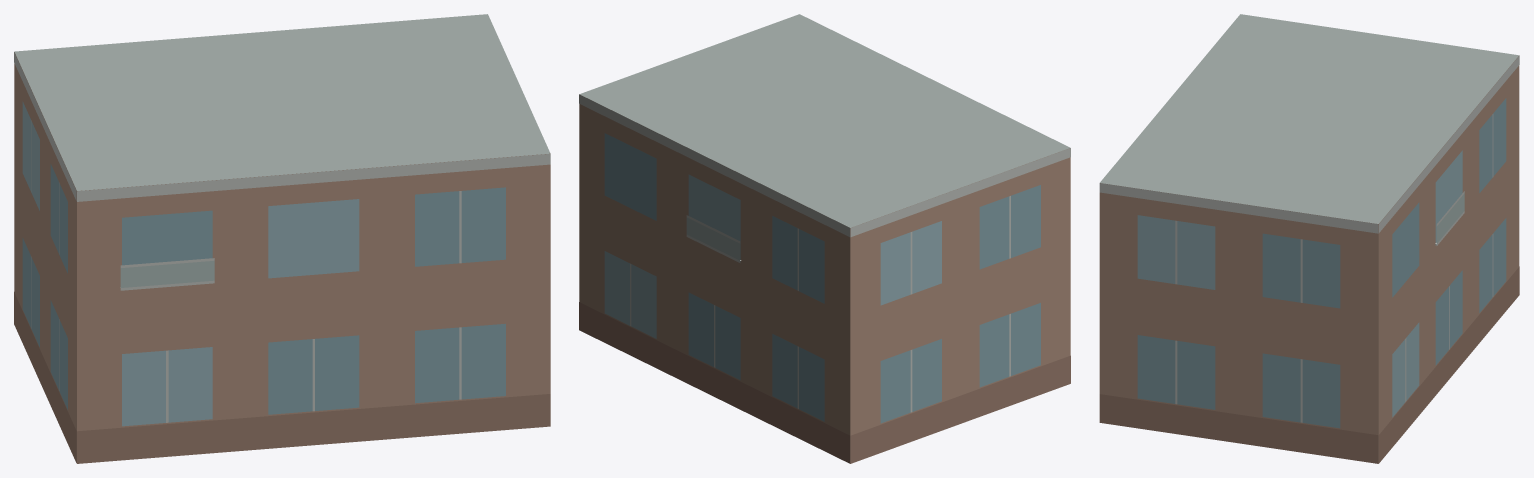
Rendered from survey-upis-33006526.glb.
3 renders of one model, left to right at view 1: azimuth 30°, elevation 25°; view 2: azimuth 150°, elevation 25°; view 3: azimuth 270°, elevation 25°, orthographic. The views are drawn at different scales.
Visible parts, largest first — view 1: survey-upis-33006526.tmp; view 2: survey-upis-33006526.tmp; view 3: survey-upis-33006526.tmp.
Part boxes in pixels (x1,y1,x2,y2): survey-upis-33006526.tmp: (14,14,550,463); survey-upis-33006526.tmp: (579,14,1070,463); survey-upis-33006526.tmp: (1099,14,1519,463).
Bounding box in the file's own units: 11.47 × 6.1 × 9.69.
